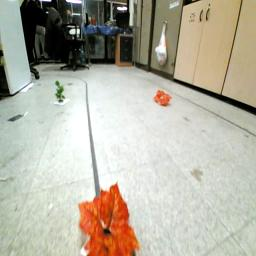herb: (54, 79, 68, 104)
wild: (79, 182, 142, 256), (154, 90, 174, 107)
